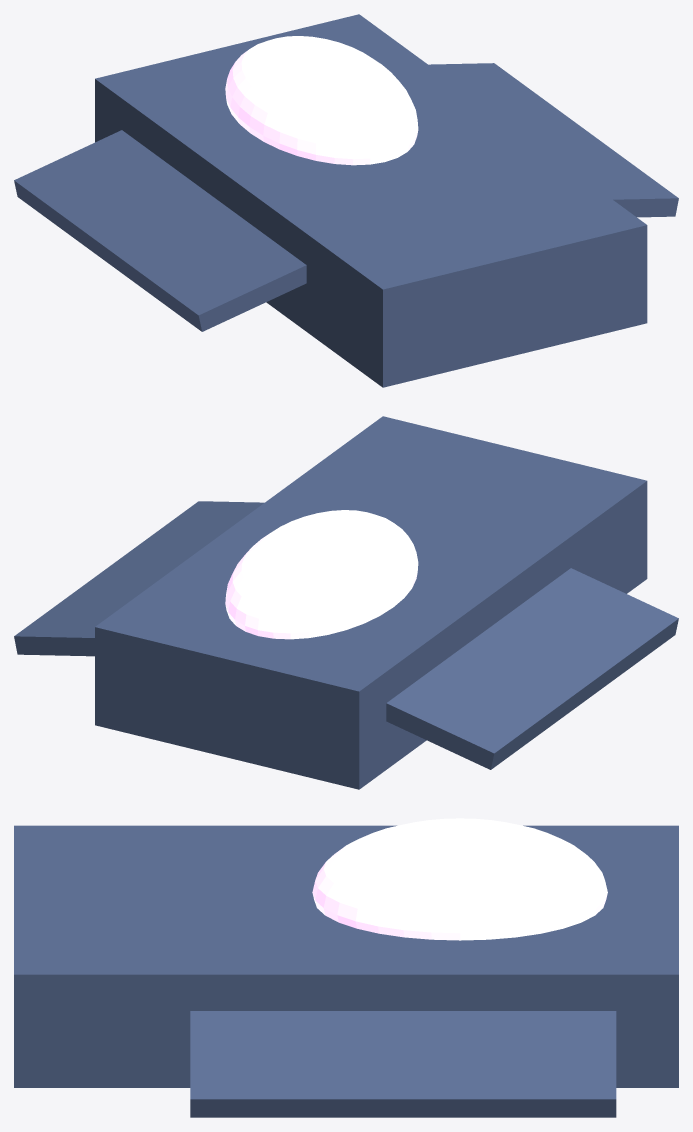
Rendered from astra.glb.
3 views of the same model, one above another, from view 1: azimuth 30°, elevation 25°; view 2: azimuth 150°, elevation 25°; view 3: azimuth 270°, elevation 25° (orthographic). The views are drawn at different scales.
Parts seen in each view (by area): view 1: Cube, Cube.002, Sphere, Cube.001; view 2: Cube, Cube.002, Sphere, Cube.001; view 3: Cube, Cube.001, Sphere.
Part boxes in pixels (left/top/right/bottom): Cube: left=95, top=14, right=647, bottom=387; Cube.002: left=14, top=130, right=306, bottom=331; Sphere: left=225, top=36, right=418, bottom=165; Cube.001: left=428, top=63, right=678, bottom=217; Cube: left=95, top=416, right=647, bottom=789; Cube.002: left=386, top=568, right=678, bottom=769; Sphere: left=225, top=510, right=418, bottom=639; Cube.001: left=14, top=501, right=264, bottom=656; Cube: left=14, top=825, right=678, bottom=1087; Cube.001: left=190, top=1011, right=616, bottom=1117; Sphere: left=312, top=818, right=607, bottom=940.
Size of the model in its own units: 2.25 by 0.71 by 2.34.
